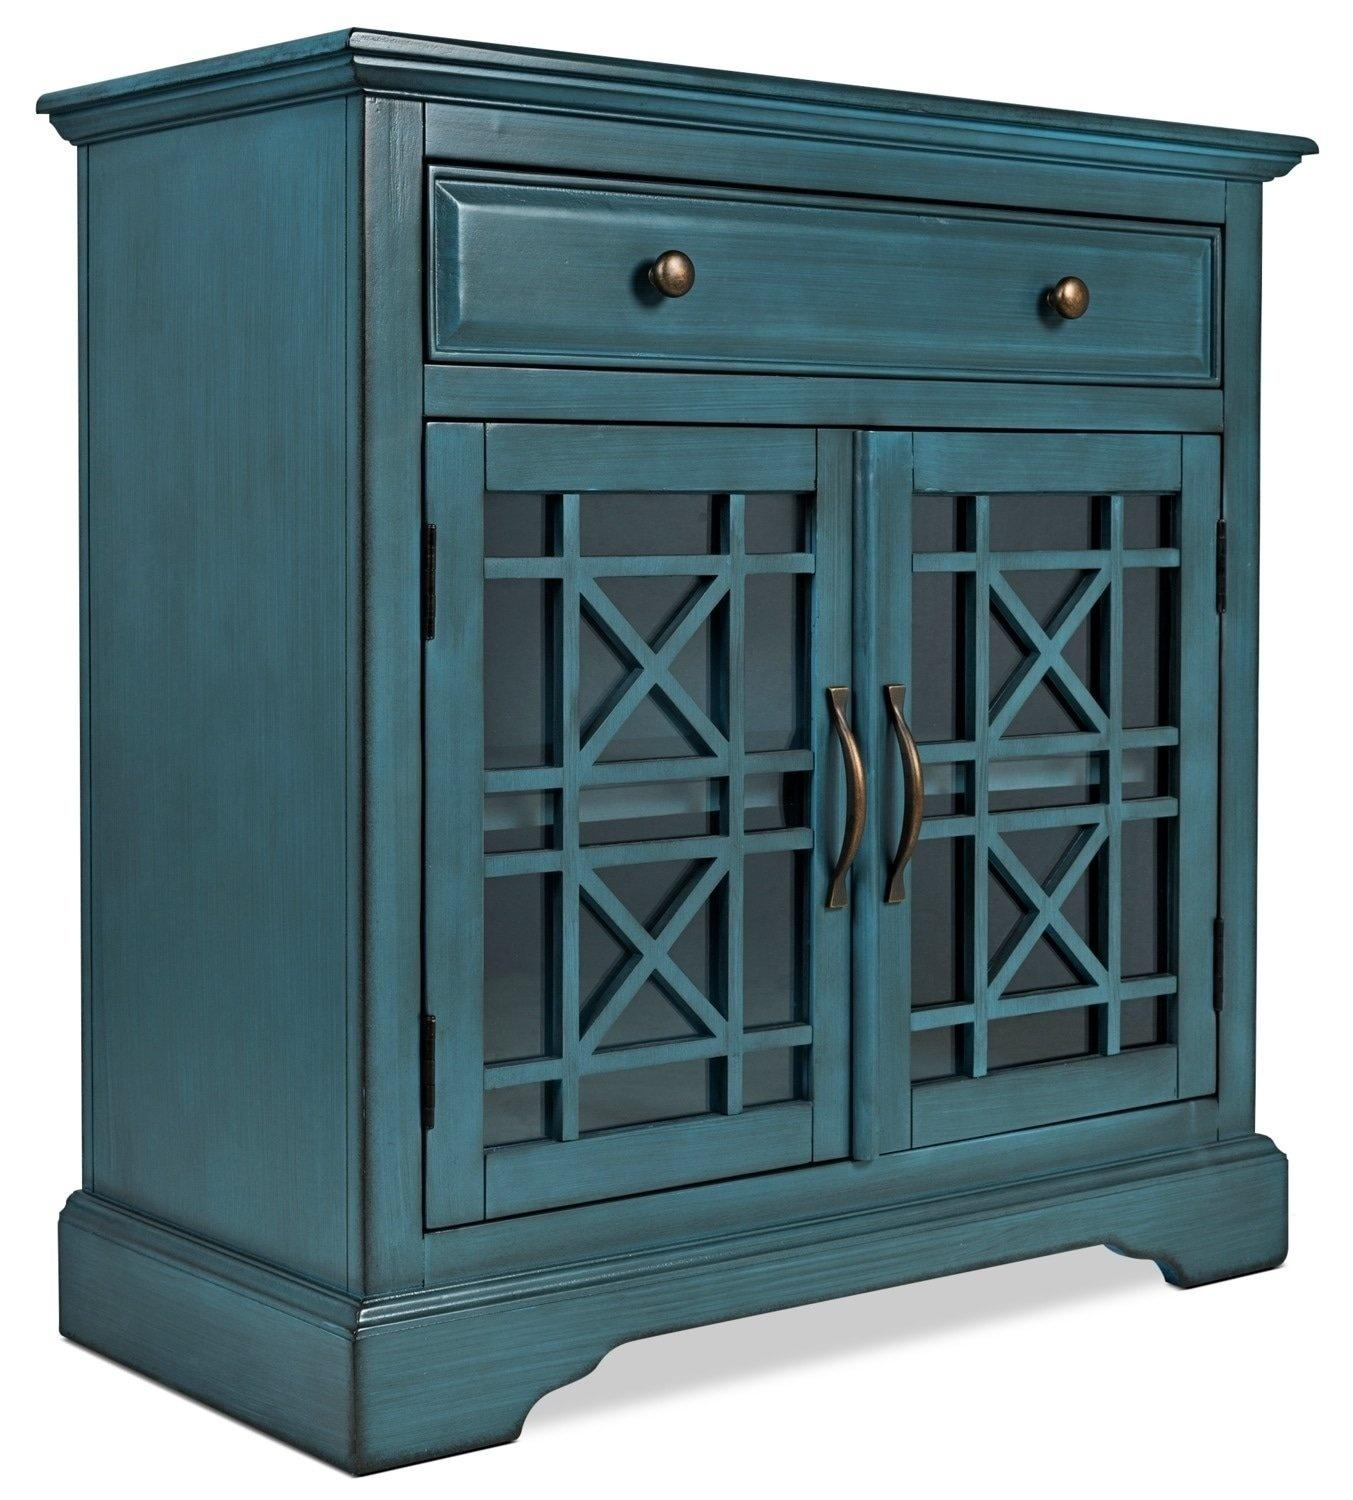cabinet_door: (430, 430, 862, 1200), (858, 430, 1222, 1125), (452, 193, 1218, 375)
handle: (807, 687, 863, 915), (879, 685, 930, 911), (633, 238, 697, 320), (1036, 260, 1092, 329)
